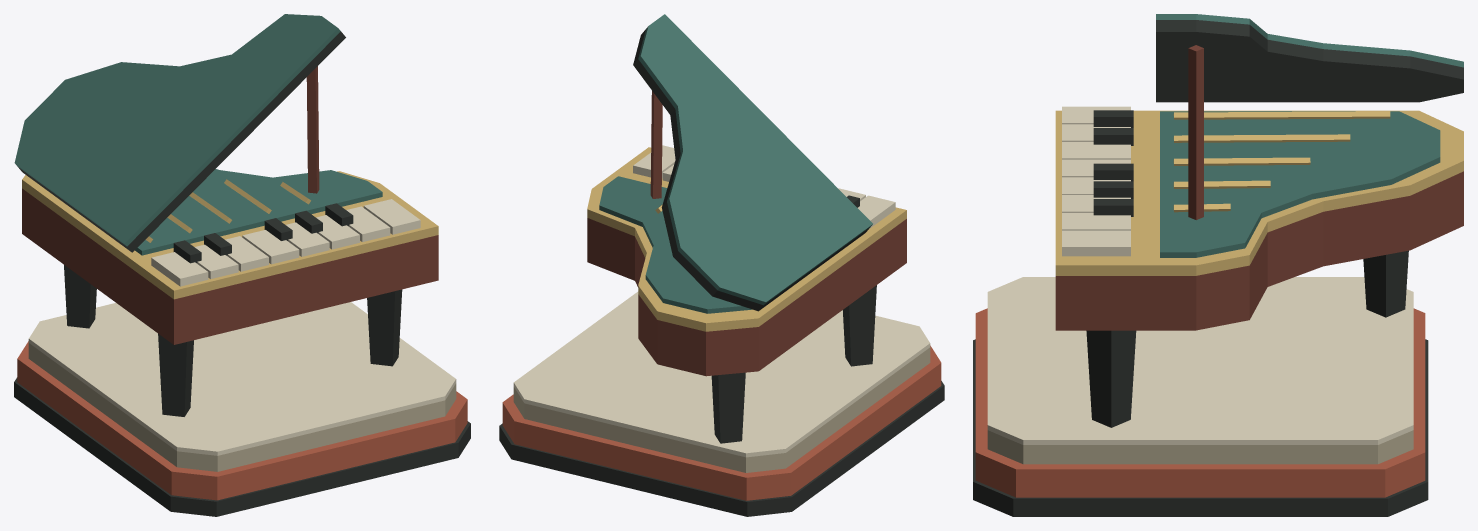
The model's file is piano.glb.
3 views of the same model, side by side, from view 1: azimuth 30°, elevation 25°; view 2: azimuth 150°, elevation 25°; view 3: azimuth 270°, elevation 25° (orthographic). The views are drawn at different scales.
Visible parts, largest first — view 1: Baby grand; view 2: Baby grand; view 3: Baby grand.
Boxes of the visible parts, x1,y1,x2,y2 form: Baby grand: [14, 14, 470, 516]; Baby grand: [499, 14, 944, 516]; Baby grand: [973, 14, 1463, 516].
Bounding box in the file's own units: 1.86 × 2.28 × 2.2.
